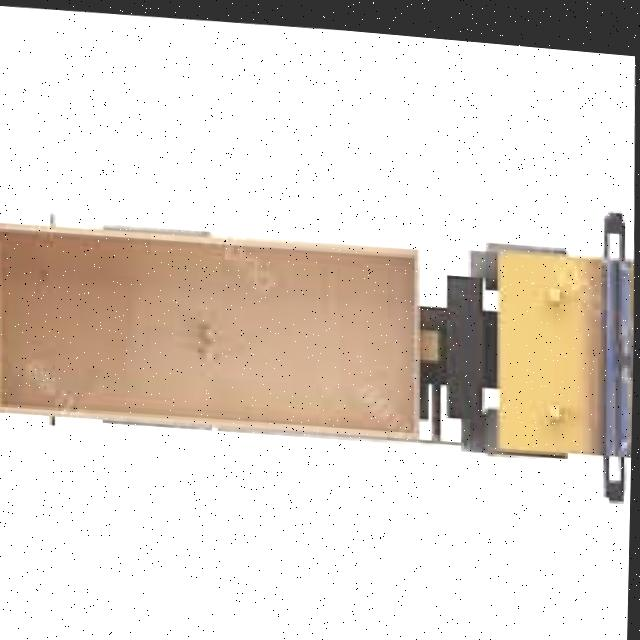truck: (0, 198, 637, 462)
